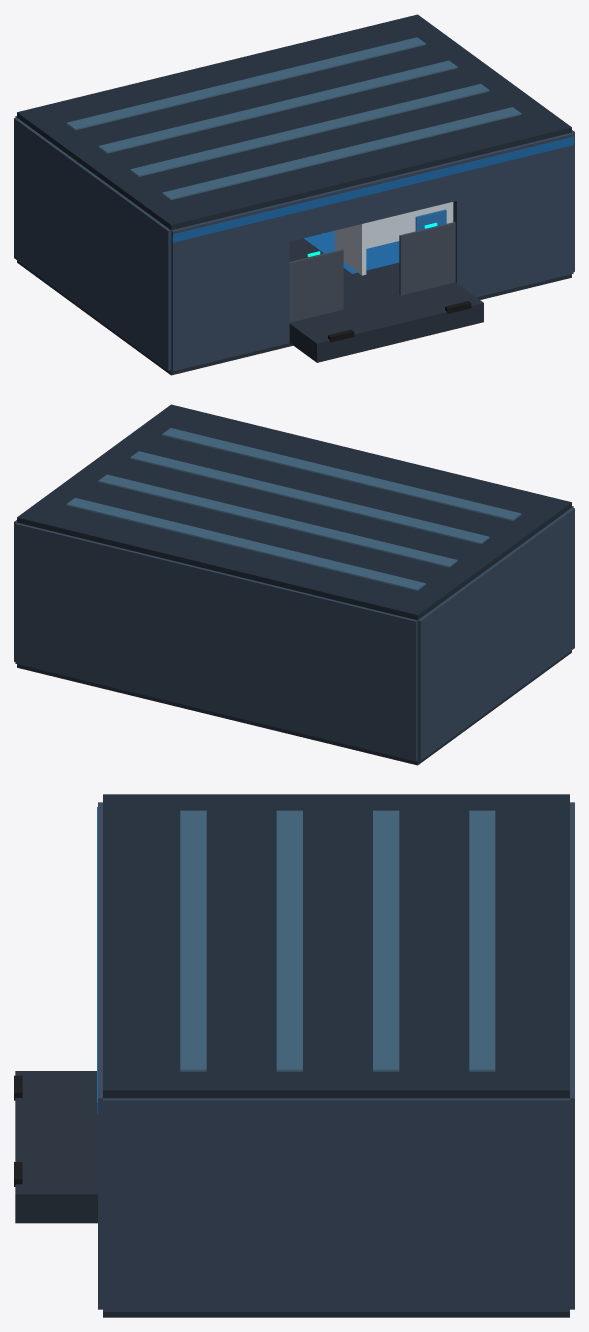
Rendered from warehouse.glb.
3 renders of one model, top to bottom at view 1: azimuth 30°, elevation 25°; view 2: azimuth 150°, elevation 25°; view 3: azimuth 270°, elevation 25°, orthographic. The views are drawn at different scales.
Visible parts, largest first — view 1: Structure_Roof, Structure_Wall_Left, Structure_Wall_Front_L, Structure_Wall_Front_R, Dock_Platform, Structure_Wall_Front_Top, Structure_Floor, Roof_Skylight_3, Roof_Skylight_2, Roof_Skylight_4, Roof_Skylight_1, Structure_Wall_Accent (+5 smaller); view 2: Structure_Roof, Structure_Wall_Back, Structure_Wall_Left, Roof_Skylight_2, Roof_Skylight_3, Roof_Skylight_1, Roof_Skylight_4, Structure_Floor; view 3: Structure_Roof, Structure_Wall_Right, Dock_Platform, Roof_Skylight_4, Roof_Skylight_1, Roof_Skylight_2, Roof_Skylight_3, Structure_Floor, Structure_Wall_Back, Structure_Wall_Front_R.
Boxes of the visible parts, left/top/right/bottom form: Structure_Roof: left=17, top=14, right=571, bottom=230; Structure_Wall_Left: left=14, top=117, right=171, bottom=370; Structure_Wall_Front_L: left=171, top=202, right=289, bottom=371; Structure_Wall_Front_R: left=453, top=132, right=573, bottom=297; Dock_Platform: left=289, top=282, right=483, bottom=362; Structure_Wall_Front_Top: left=288, top=161, right=456, bottom=241; Structure_Floor: left=17, top=238, right=571, bottom=375; Roof_Skylight_3: left=130, top=84, right=489, bottom=176; Roof_Skylight_2: left=98, top=61, right=457, bottom=153; Roof_Skylight_4: left=162, top=107, right=520, bottom=199; Roof_Skylight_1: left=67, top=37, right=425, bottom=129; Structure_Wall_Accent: left=171, top=137, right=573, bottom=242; Structure_Roof: left=17, top=404, right=571, bottom=620; Structure_Wall_Back: left=15, top=522, right=417, bottom=761; Structure_Wall_Left: left=417, top=507, right=574, bottom=760; Roof_Skylight_2: left=98, top=474, right=457, bottom=567; Roof_Skylight_3: left=130, top=451, right=489, bottom=543; Roof_Skylight_1: left=67, top=498, right=425, bottom=590; Roof_Skylight_4: left=162, top=428, right=520, bottom=520; Structure_Floor: left=17, top=650, right=571, bottom=765; Structure_Roof: left=103, top=794, right=569, bottom=1098; Structure_Wall_Right: left=103, top=1098, right=569, bottom=1311; Dock_Platform: left=15, top=1071, right=97, bottom=1223; Roof_Skylight_4: left=180, top=811, right=206, bottom=1071; Roof_Skylight_1: left=469, top=811, right=494, bottom=1071; Roof_Skylight_2: left=373, top=811, right=398, bottom=1071; Roof_Skylight_3: left=277, top=811, right=302, bottom=1071; Structure_Floor: left=103, top=1312, right=569, bottom=1317; Structure_Wall_Back: left=570, top=802, right=574, bottom=1309; Structure_Wall_Front_R: left=98, top=1012, right=102, bottom=1309.
Size of the model in its own units: 24.35 by 8.68 by 19.23.
